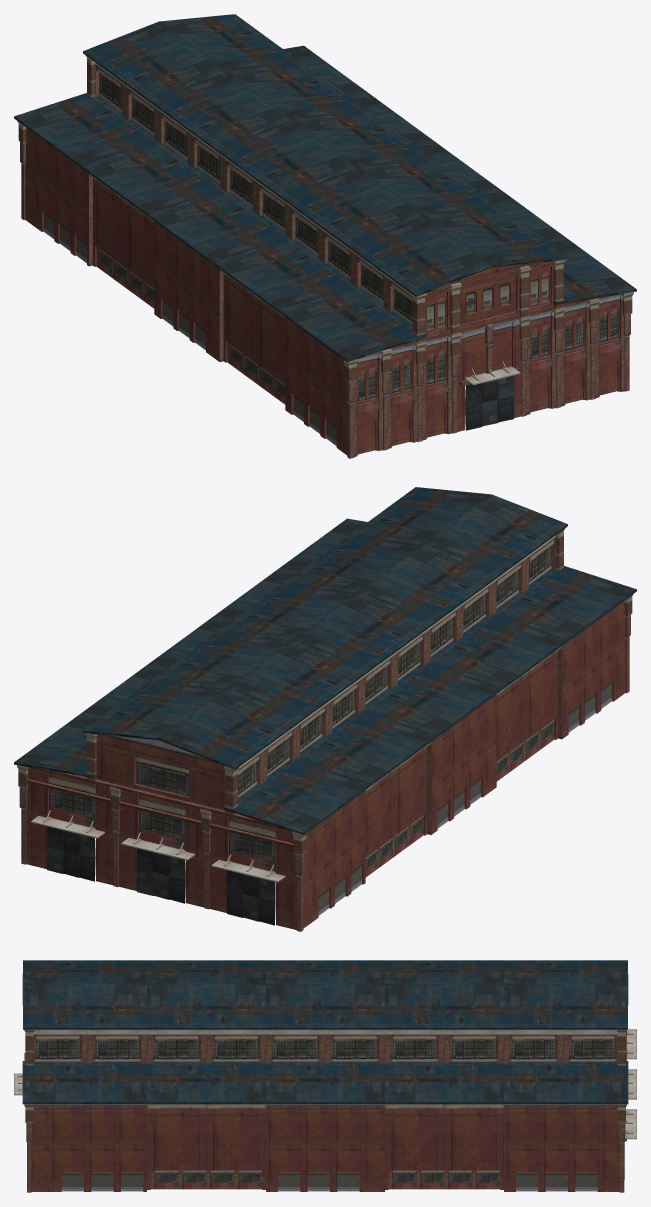
Rendered from ind-factory.lod1.glb.
The picture shows the model from 3 angles, top to bottom: view 1: azimuth 30°, elevation 25°; view 2: azimuth 150°, elevation 25°; view 3: azimuth 270°, elevation 25°; orthographic projection. The views are drawn at different scales.
Visible parts, largest first — view 1: Industrial_FactoryPlant_1_Industrial_Walls_FLR_2_0, Industrial_FactoryPlant_1_Industrial_Facade_Flr_1_0; view 2: Industrial_FactoryPlant_1_Industrial_Walls_FLR_2_0, Industrial_FactoryPlant_1_Industrial_Facade_Flr_1_0; view 3: Industrial_FactoryPlant_1_Industrial_Facade_Flr_1_0, Industrial_FactoryPlant_1_Industrial_Walls_FLR_2_0.
Boxes of the visible parts, x1,y1,x2,y2 form: Industrial_FactoryPlant_1_Industrial_Walls_FLR_2_0: (14, 14, 636, 430); Industrial_FactoryPlant_1_Industrial_Facade_Flr_1_0: (17, 55, 633, 458); Industrial_FactoryPlant_1_Industrial_Walls_FLR_2_0: (14, 487, 636, 925); Industrial_FactoryPlant_1_Industrial_Facade_Flr_1_0: (17, 528, 633, 931); Industrial_FactoryPlant_1_Industrial_Facade_Flr_1_0: (14, 1029, 636, 1192); Industrial_FactoryPlant_1_Industrial_Walls_FLR_2_0: (22, 960, 628, 1179).
Bounding box in the file's own units: 46.53 × 24.73 × 95.3.
Materials: 2 (2 with a texture image).
